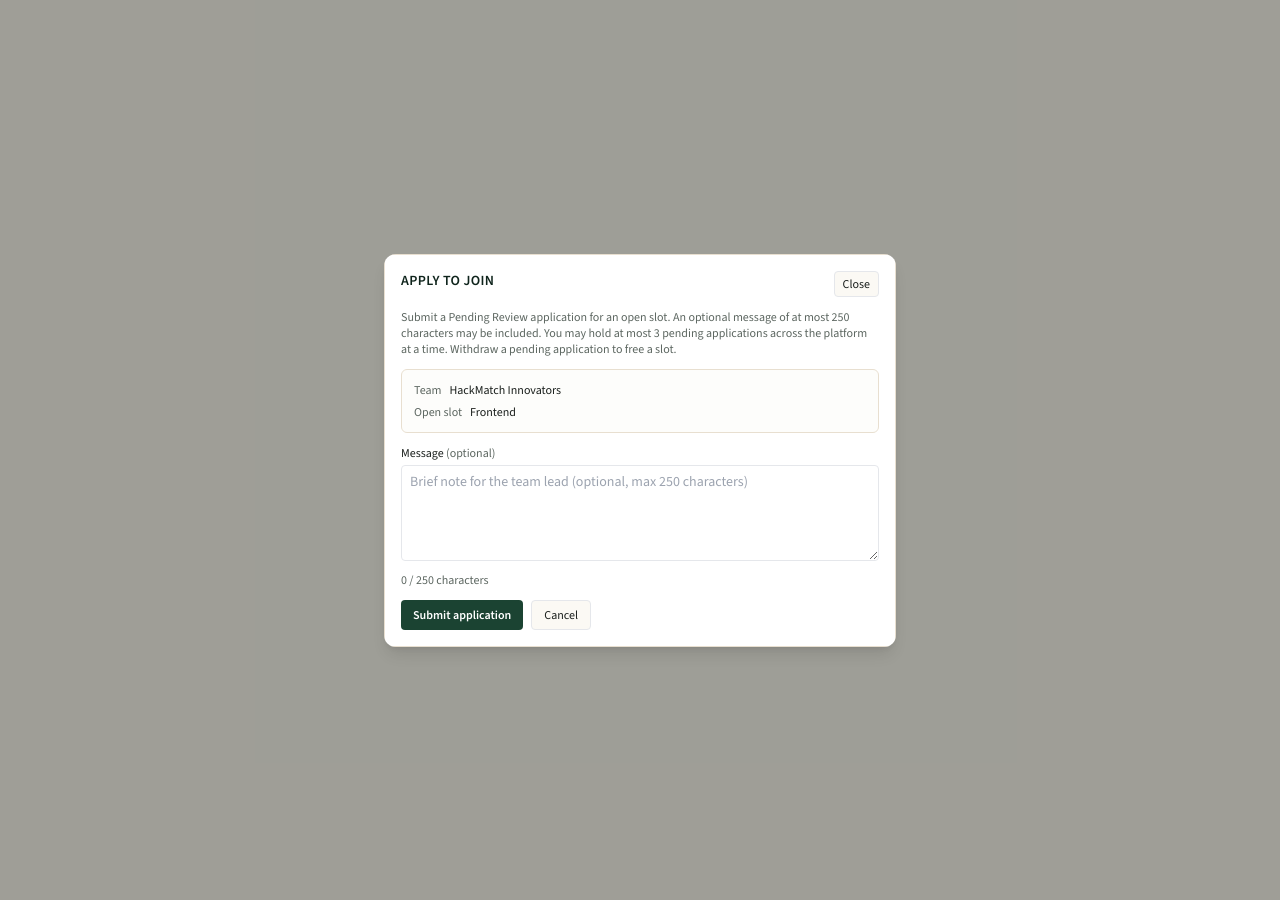
it: ApplicationFormPanel (US-018 / #171) › keeps message draft when API returns APPLICATION_PENDING_LIMIT (#174 / NR-017)
Type "Still interested" into the text box with test id "application-message-input".
click(640, 512); type("Still interested")  # box x1=401 y1=464 x2=879 y2=560
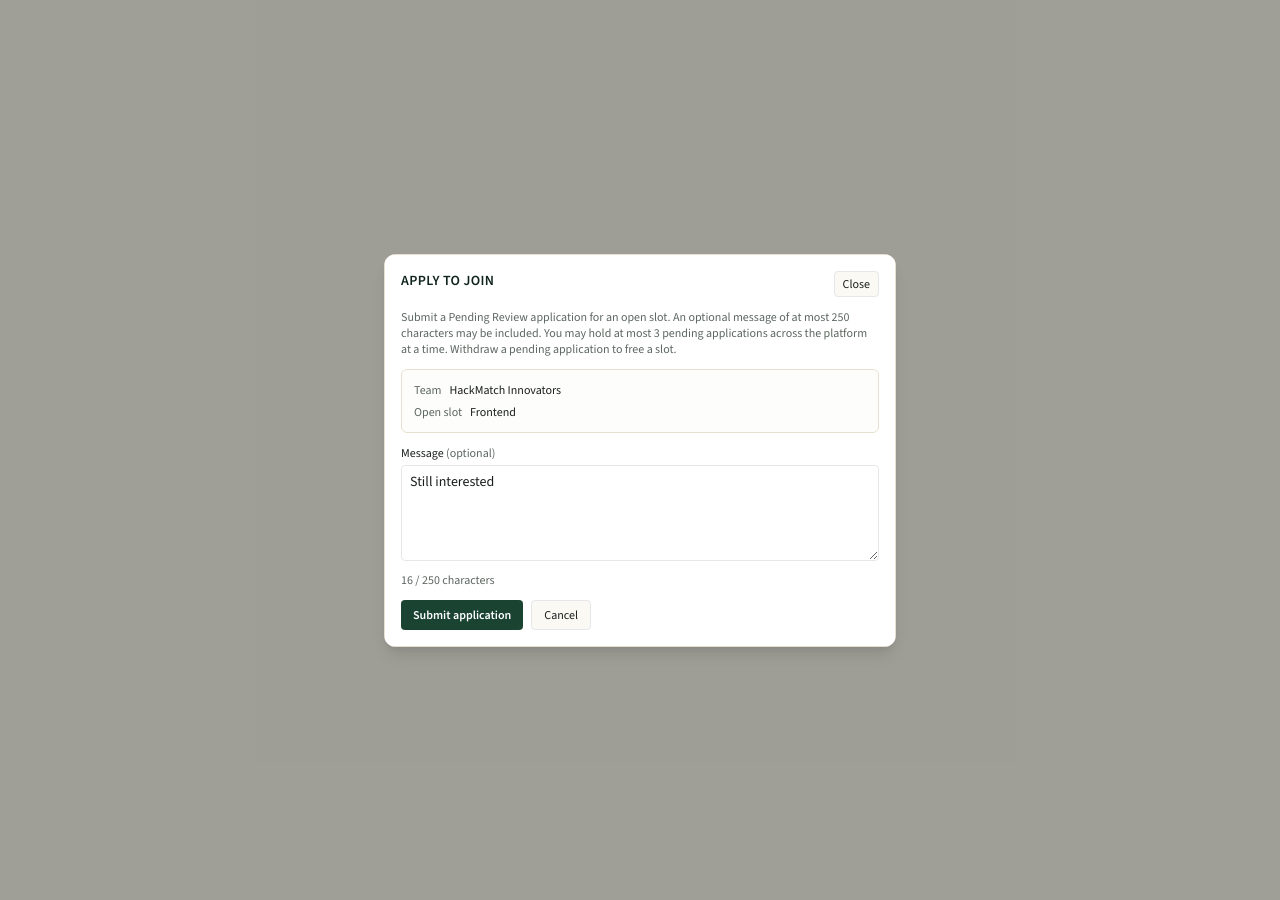
Click the button with test id "submit-application".
click(462, 614)  # box x1=401 y1=600 x2=523 y2=630
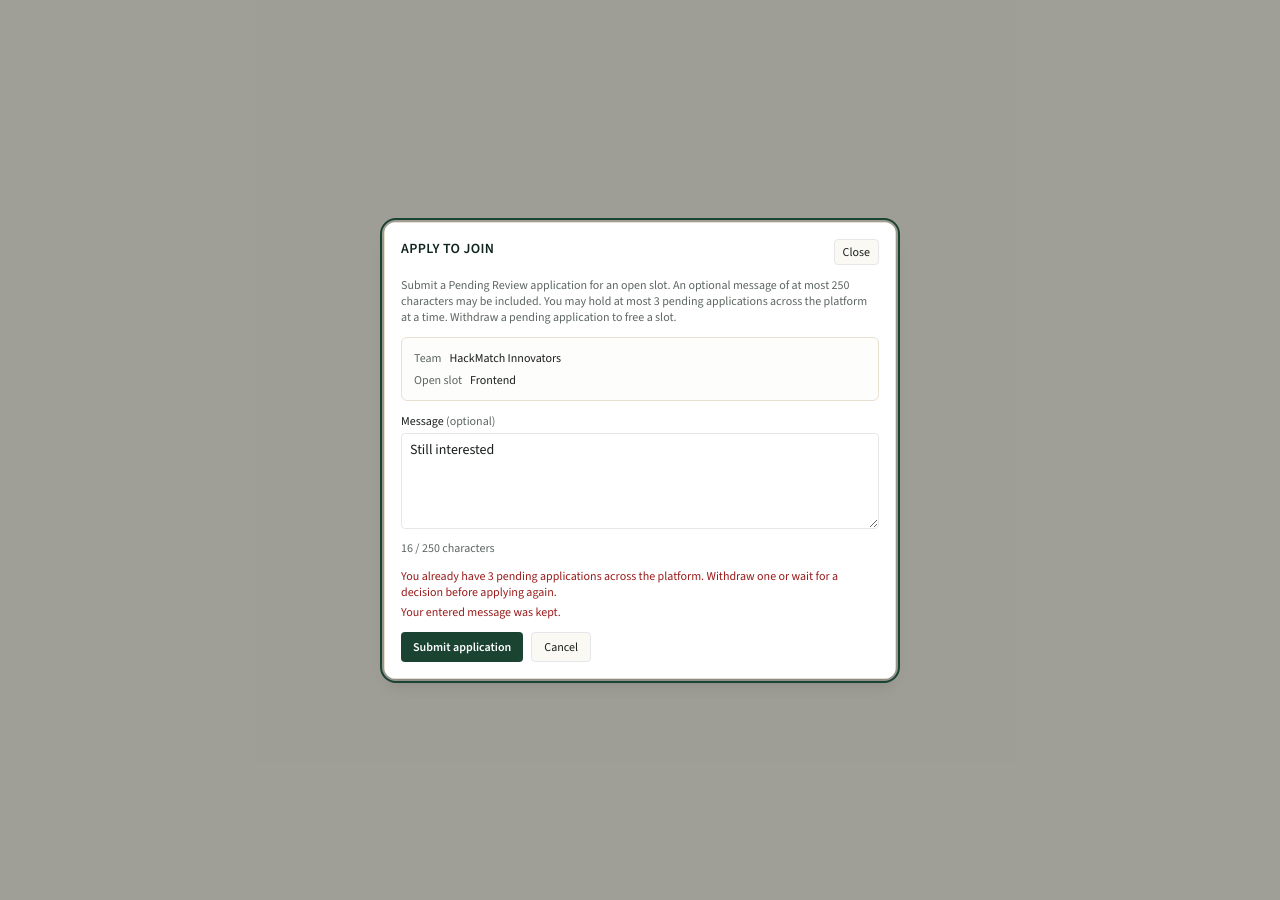
Expected: the message with test id "application-form-error" shows "3 pending applications", x1=401 y1=568 x2=838 y2=600
Expected: the text "Your entered message was kept." is shown, x1=401 y1=604 x2=561 y2=620
Expected: the message with test id "application-form-error" shows "withdraw one or wait for a decision", x1=401 y1=568 x2=838 y2=600
